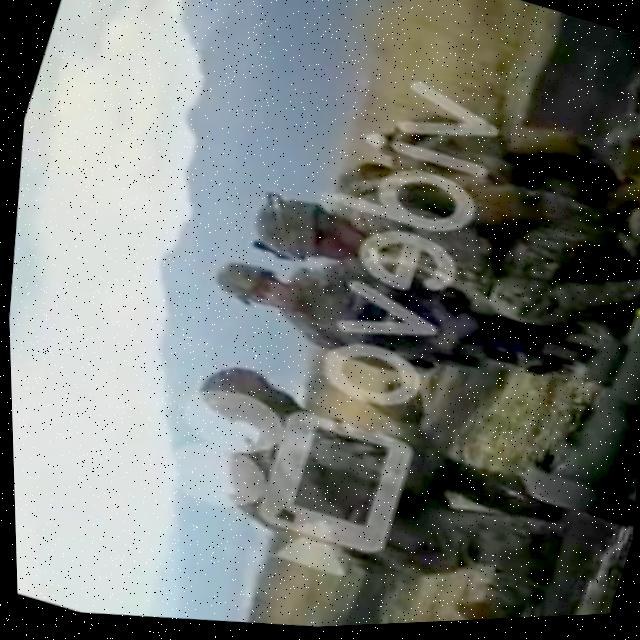rocket: (503, 198, 640, 538)
